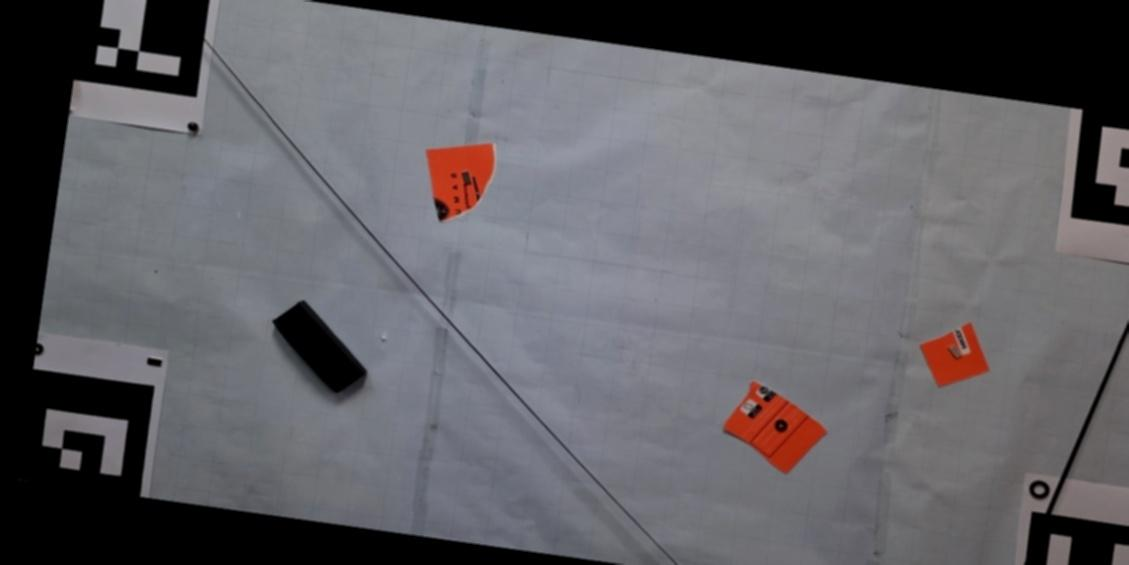obstacle: (724, 382, 828, 475), (271, 299, 368, 397), (426, 143, 495, 222), (920, 320, 990, 387)
